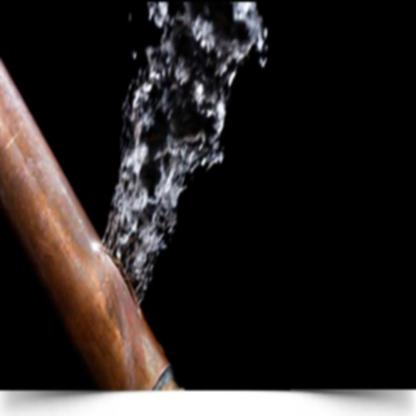burst: (88, 226, 176, 339)
